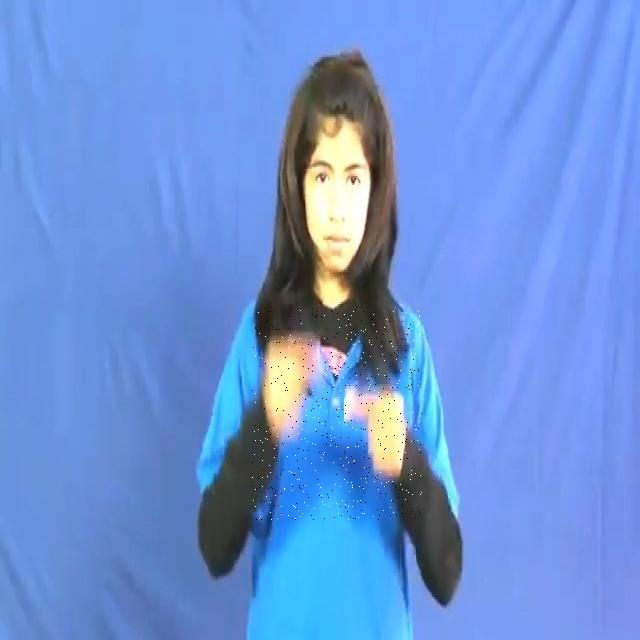pickle: (252, 310, 422, 520)
